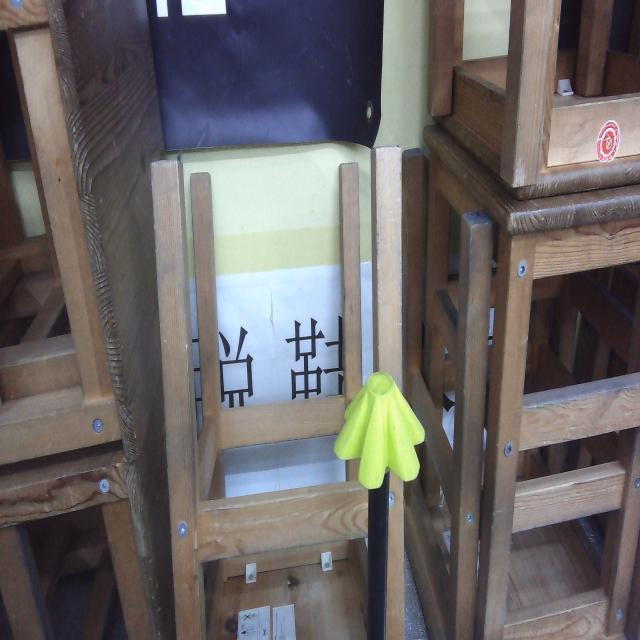Yellow-Stake-Head: (334, 371, 426, 489)
